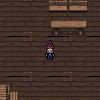Obstacle: (48, 19, 88, 36), (0, 83, 21, 100), (48, 0, 68, 13), (68, 0, 88, 13)
Victim: (43, 39, 57, 61)
